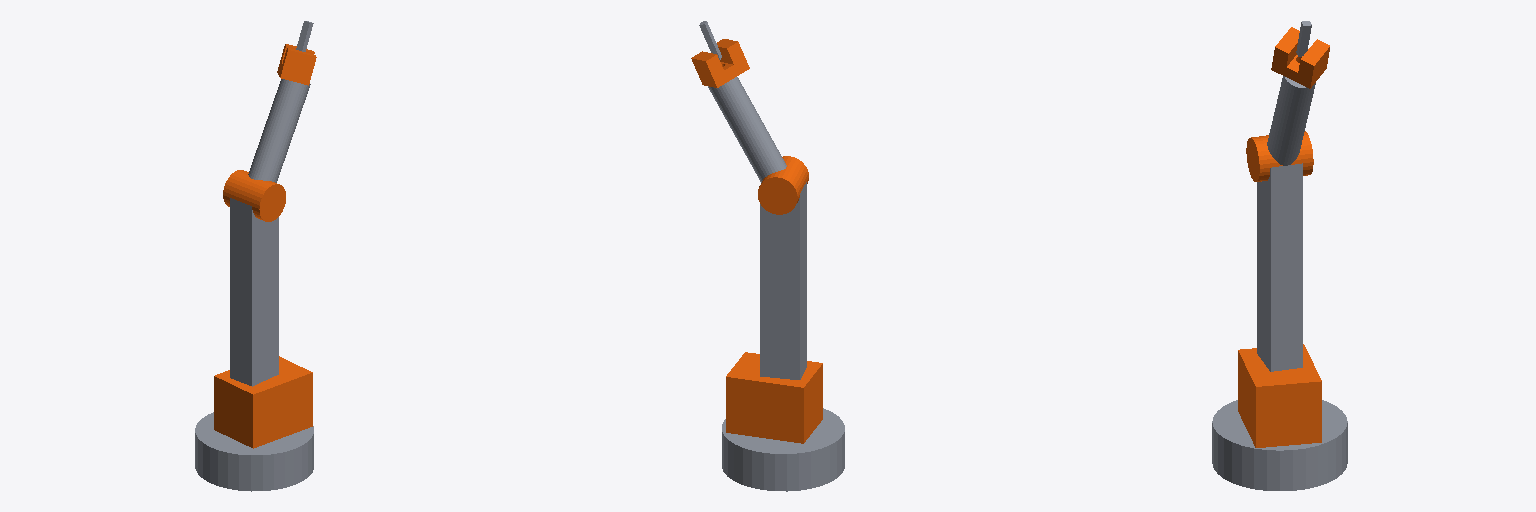
The robot description file, URDF, robot "arm3":
<?xml version="1.0"?>
<!--
  arm3: a small hand-written 4-joint arm used as an import and kinematics fixture.
  Lengths in metres, angles in radians (URDF convention).

    base_link, base_yaw, turret, shoulder, upper_arm, elbow, forearm, finger_slide, finger (a chain)

  Roughly 400 mm from the shoulder axis to the fingertip with the arm stretched upwards.
  Origins carry non-zero rpy on purpose, and the shoulder, elbow and finger axes are not Z.
-->
<robot name="arm3">
  <material name="steel">
    <color rgba="0.6 0.62 0.66 1"/>
  </material>
  <material name="orange">
    <color rgba="0.95 0.45 0.1 1"/>
  </material>

  <link name="base_link">
    <visual>
      <origin xyz="0 0 0.02" rpy="0 0 0"/>
      <geometry><cylinder radius="0.06" length="0.04"/></geometry>
      <material name="steel"/>
    </visual>
  </link>

  <link name="turret">
    <visual>
      <origin xyz="0.01 0 0.03" rpy="0 0 0.2"/>
      <geometry><box size="0.08 0.06 0.06"/></geometry>
      <material name="orange"/>
    </visual>
  </link>

  <link name="upper_arm">
    <visual>
      <origin xyz="0 0 0.1" rpy="0 0 0"/>
      <geometry><box size="0.04 0.03 0.2"/></geometry>
      <material name="steel"/>
    </visual>
    <visual>
      <origin xyz="0 0 0.2" rpy="1.5707963267948966 0 0"/>
      <geometry><cylinder radius="0.02" length="0.05"/></geometry>
      <material name="orange"/>
    </visual>
  </link>

  <link name="forearm">
    <visual>
      <origin xyz="0 0 0.06" rpy="0 0.1 0"/>
      <geometry><cylinder radius="0.015" length="0.12"/></geometry>
      <material name="steel"/>
    </visual>
    <visual>
      <origin xyz="0 0 0.12" rpy="0 0 0.7853981633974483"/>
      <geometry>
        <mesh filename="package://arm3/meshes/gripper_base.stl" scale="1 1 1"/>
      </geometry>
      <material name="orange"/>
    </visual>
  </link>

  <link name="finger">
    <visual>
      <origin xyz="0 0 0.02" rpy="0 0 0"/>
      <geometry><box size="0.008 0.006 0.04"/></geometry>
      <material name="steel"/>
    </visual>
  </link>

  <joint name="base_yaw" type="revolute">
    <parent link="base_link"/>
    <child link="turret"/>
    <origin xyz="0 0 0.04" rpy="0 0 0"/>
    <axis xyz="0 0 1"/>
    <limit lower="-2.9670597283903604" upper="2.9670597283903604" effort="20" velocity="2"/>
  </joint>

  <joint name="shoulder" type="revolute">
    <parent link="turret"/>
    <child link="upper_arm"/>
    <origin xyz="0 0 0.06" rpy="0 0 0.3"/>
    <axis xyz="0 1 0"/>
    <limit lower="-1.2" upper="1.9" effort="30" velocity="2"/>
  </joint>

  <joint name="elbow" type="revolute">
    <parent link="upper_arm"/>
    <child link="forearm"/>
    <origin xyz="0.01 0 0.2" rpy="0 0.4 0"/>
    <axis xyz="0 1 0"/>
    <limit lower="-2.0" upper="2.0" effort="20" velocity="2"/>
  </joint>

  <joint name="finger_slide" type="prismatic">
    <parent link="forearm"/>
    <child link="finger"/>
    <origin xyz="0.0 0.0 0.14" rpy="0 0 1.5707963267948966"/>
    <axis xyz="1 0 0"/>
    <limit lower="0" upper="0.03" effort="10" velocity="0.05"/>
  </joint>
</robot>

--- What the picture shows (computed from the rendered views, not written in the file) ---
The picture shows the robot from 3 angles, left to right: view 1: azimuth 30°, elevation 25°; view 2: azimuth 150°, elevation 25°; view 3: azimuth 270°, elevation 25°; orthographic projection.
Robot: arm3 — 5 links, 4 joints (3 revolute, 1 prismatic); root link base_link; default pose: all joints at 0.
Visible links, largest first — view 1: upper_arm, turret, base_link, forearm; view 2: upper_arm, turret, base_link, forearm; view 3: upper_arm, base_link, turret, forearm.
Boxes of the visible links, x1,y1,x2,y2 form: upper_arm: (223,170,285,386); turret: (214,356,312,448); base_link: (195,412,313,491); forearm: (248,44,316,182); upper_arm: (758,156,808,379); turret: (726,352,822,443); base_link: (722,408,844,491); forearm: (691,39,786,182); upper_arm: (1246,131,1313,371); base_link: (1212,400,1347,490); turret: (1238,344,1321,447); forearm: (1267,27,1329,165).
Bounding box of the posed robot: 0.1461 × 0.12 × 0.467 m (x, y, z).
Meshes: 1 distinct files referenced, 1 mesh visuals loaded (1 binary STL).
